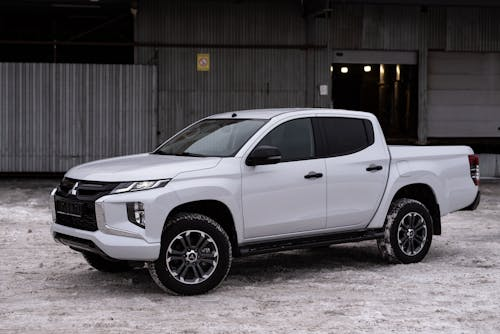other: (46, 105, 481, 302)
